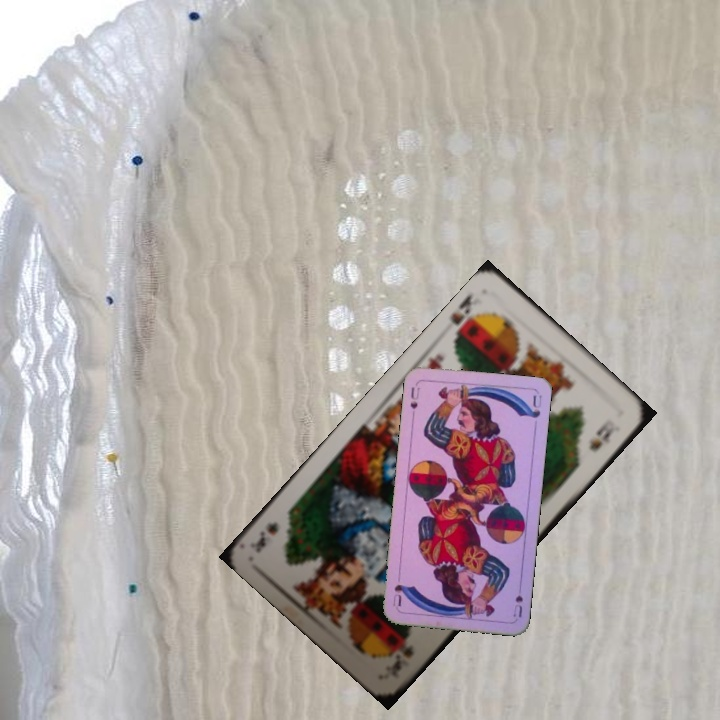SK: (445, 288, 478, 343), (390, 638, 417, 674)
SU: (509, 579, 525, 620), (406, 383, 422, 421)
